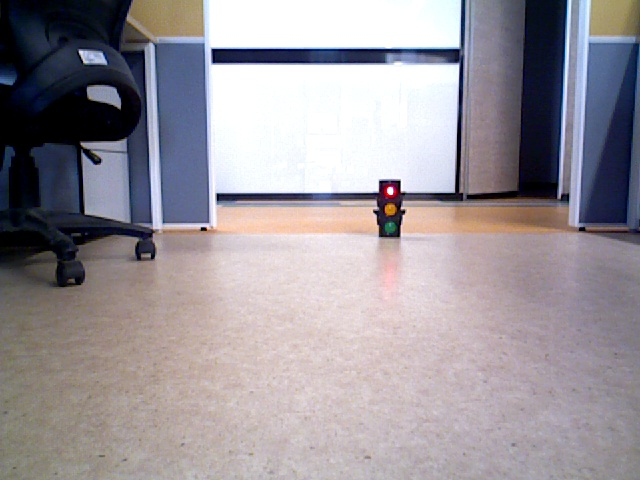red: (377, 182, 400, 234)
